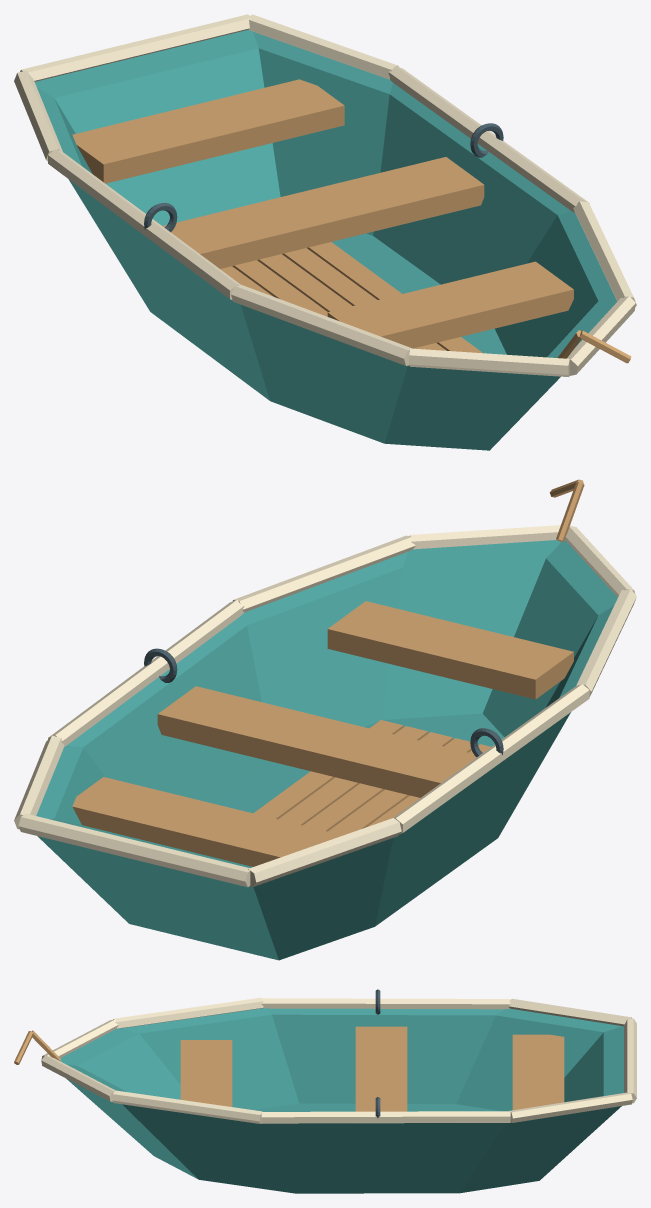
The model's file is teal_rowboat_quiet_lake_fishing_22404.glb.
3 renders of one model, top to bottom at view 1: azimuth 30°, elevation 25°; view 2: azimuth 150°, elevation 25°; view 3: azimuth 270°, elevation 25°, orthographic. The views are drawn at different scales.
Visible parts, largest first — view 1: teal, wood, cream, iron; view 2: teal, wood, cream, iron; view 3: teal, cream, wood.
Boxes of the visible parts, x1,y1,x2,y2 form: teal: (35,29,617,450); wood: (72,79,631,363); cream: (14,14,636,376); iron: (144,123,503,232); teal: (36,540,617,960); wood: (72,479,584,866); cream: (14,525,636,887); iron: (144,648,503,757); teal: (60,1008,623,1193); cream: (41,997,636,1123); wood: (14,1026,564,1111).
Bounding box in the file's own units: 1.53 × 0.7536 × 3.38.
